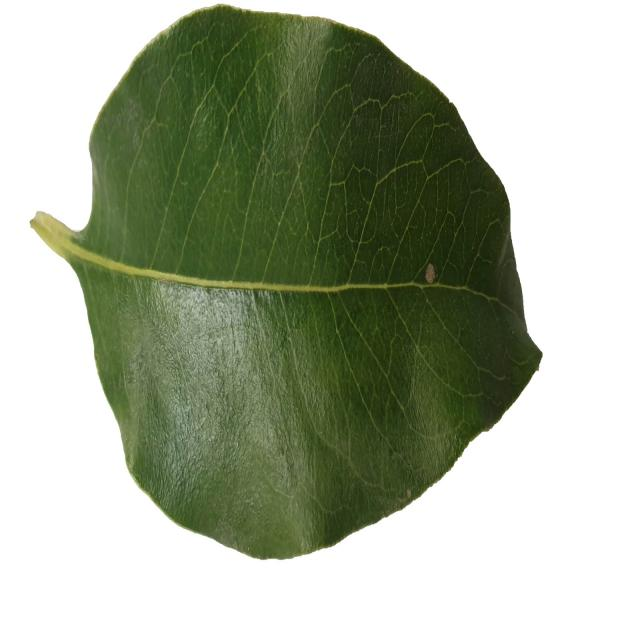Medicinal-Sandalwood: (30, 0, 543, 557)
